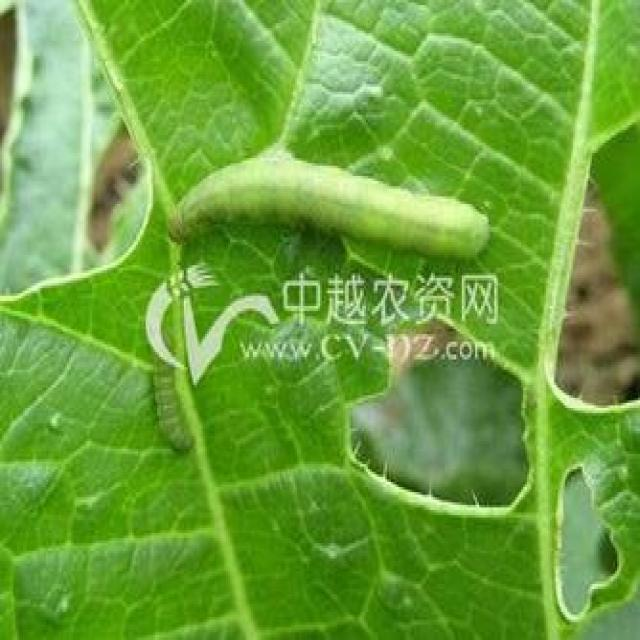armyworm: (166, 156, 517, 273)
